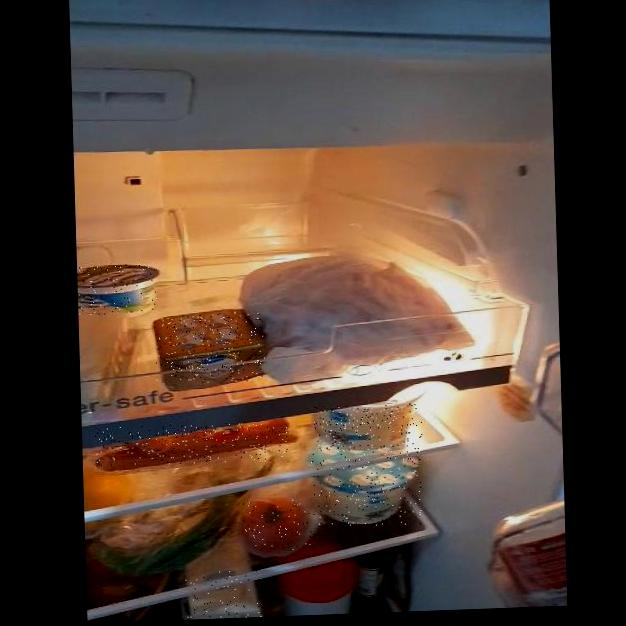butter: (153, 310, 266, 385)
carrot: (95, 421, 288, 467)
green chilies: (96, 512, 227, 574)
milk: (183, 570, 263, 620)
tomato: (240, 499, 312, 552)
yoghurt: (311, 450, 422, 528), (313, 403, 424, 453), (78, 264, 157, 315)
